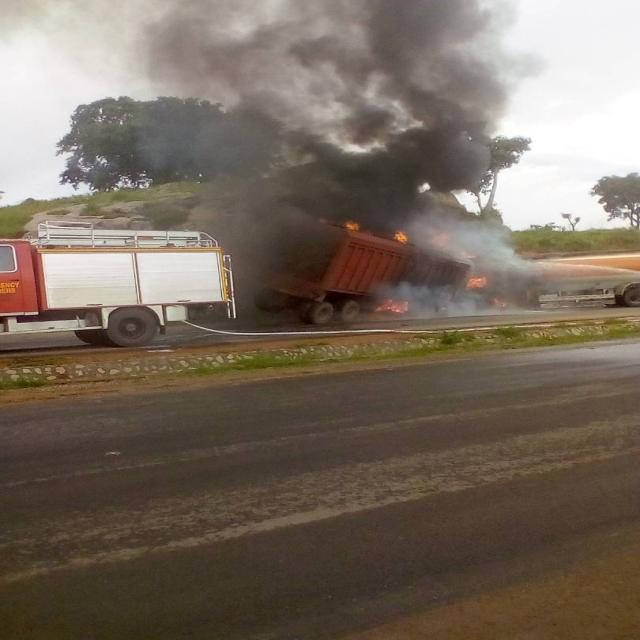smoke: (189, 7, 472, 186), (424, 226, 511, 307)
